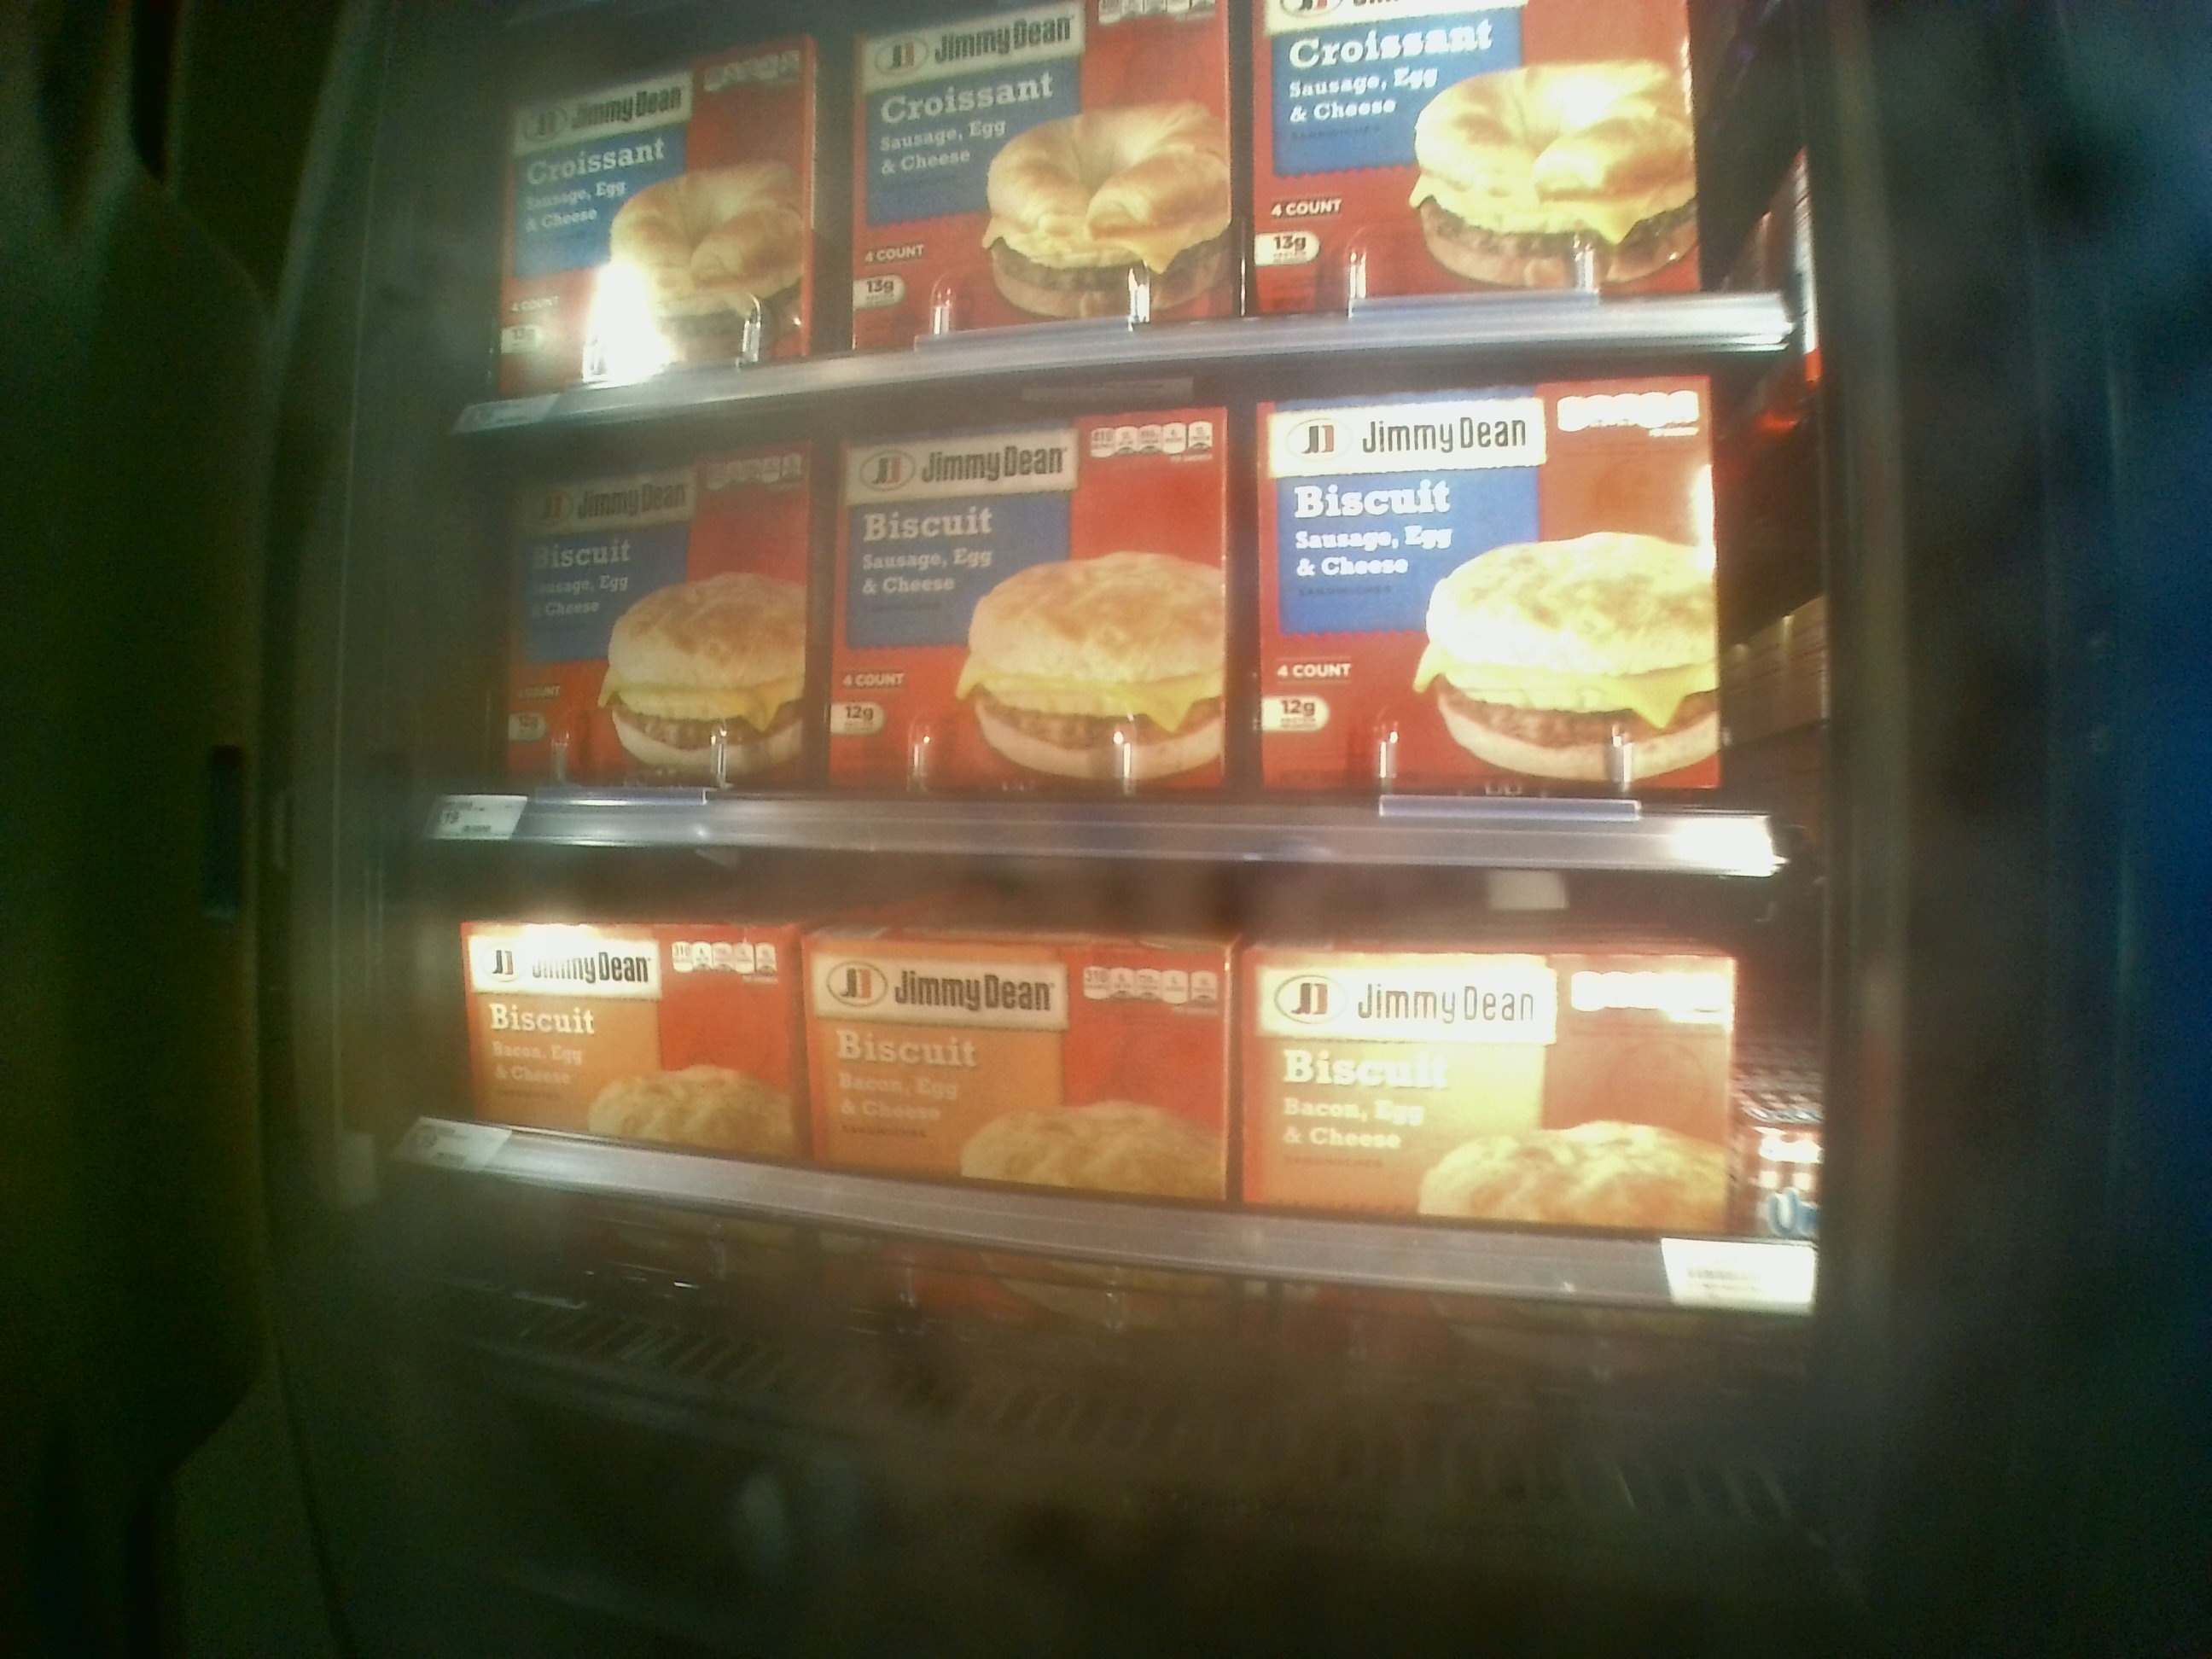shelf: (413, 819, 1846, 1497), (406, 335, 1806, 870)
